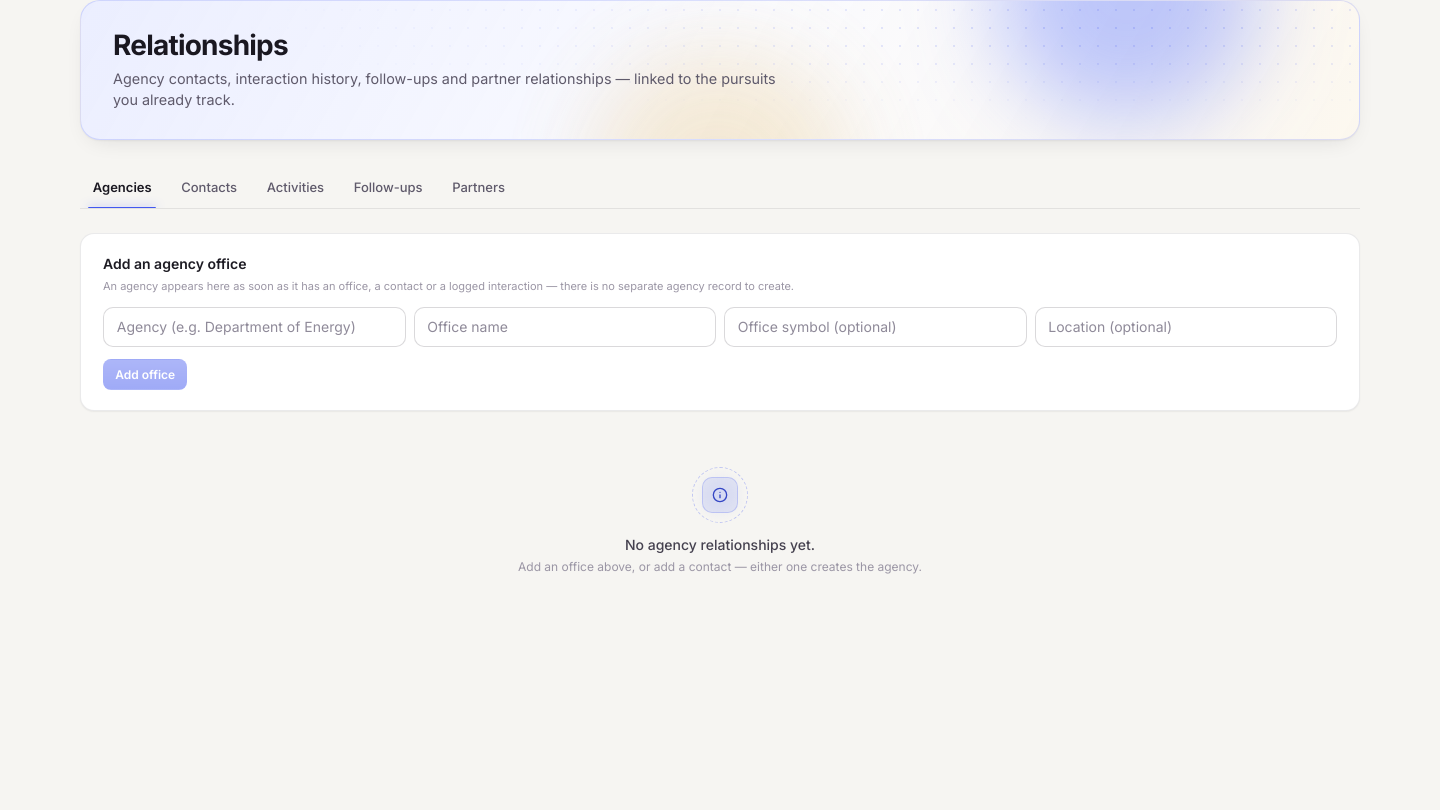
Test: CRM page — linking an interaction to an opportunity › offers a searchable opportunity picker when logging an interaction
Click the button "Contacts".
click(209, 188)  # box [168,168,250,208]
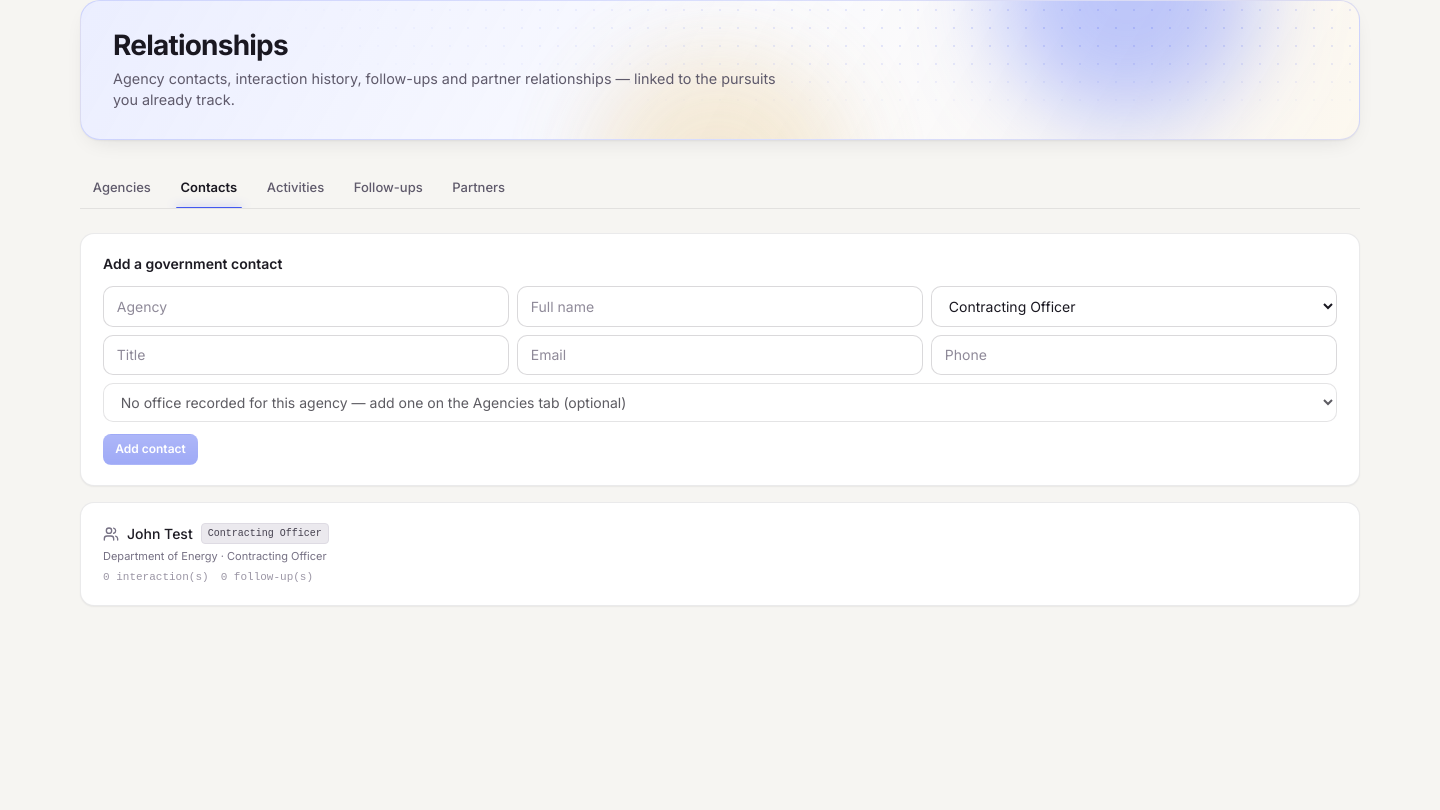
Click the text "John Test".
click(160, 534)  # box [127,524,193,544]
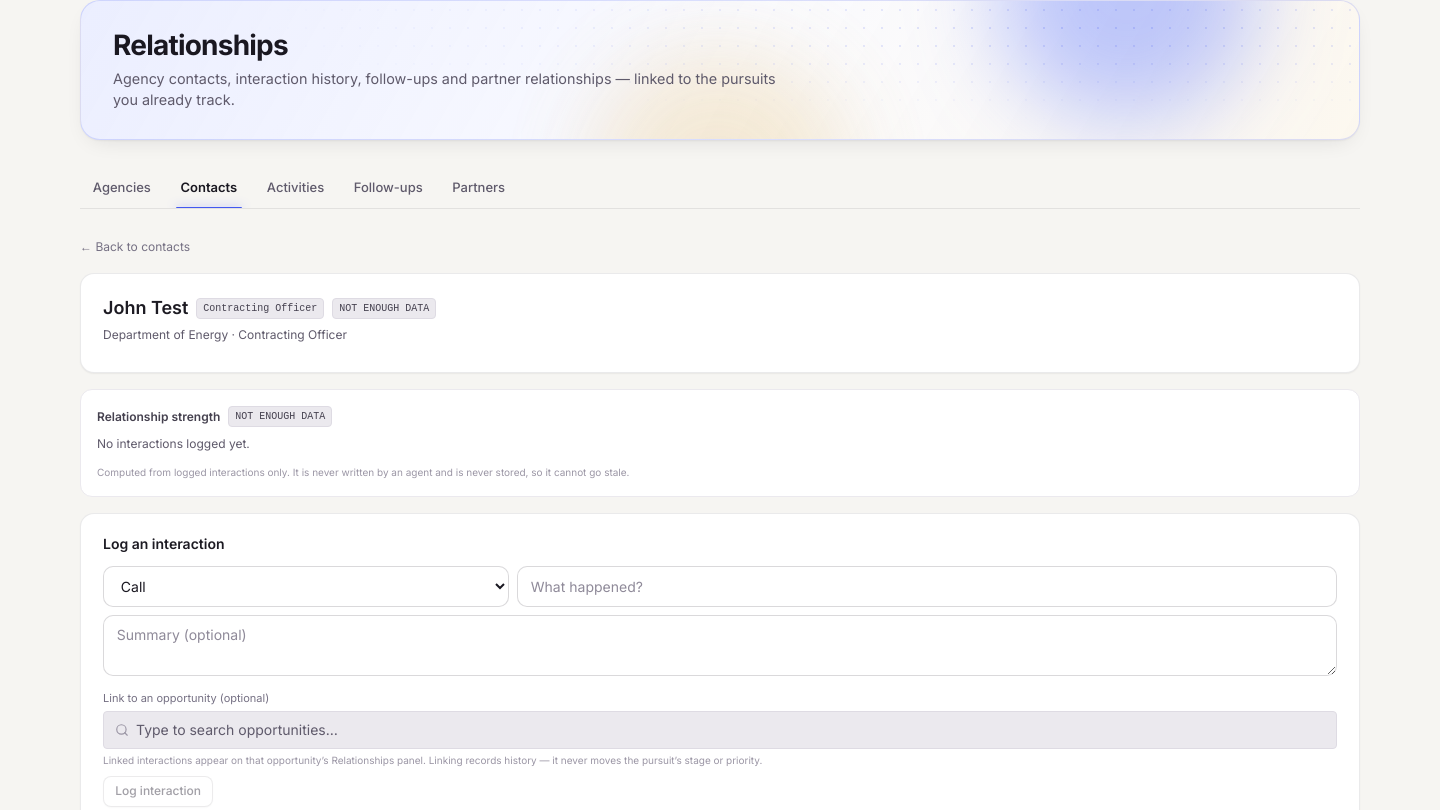
Focus the dropdown named "Link to an opportunity (optional)" at (720, 730), box [103,711,1337,749]
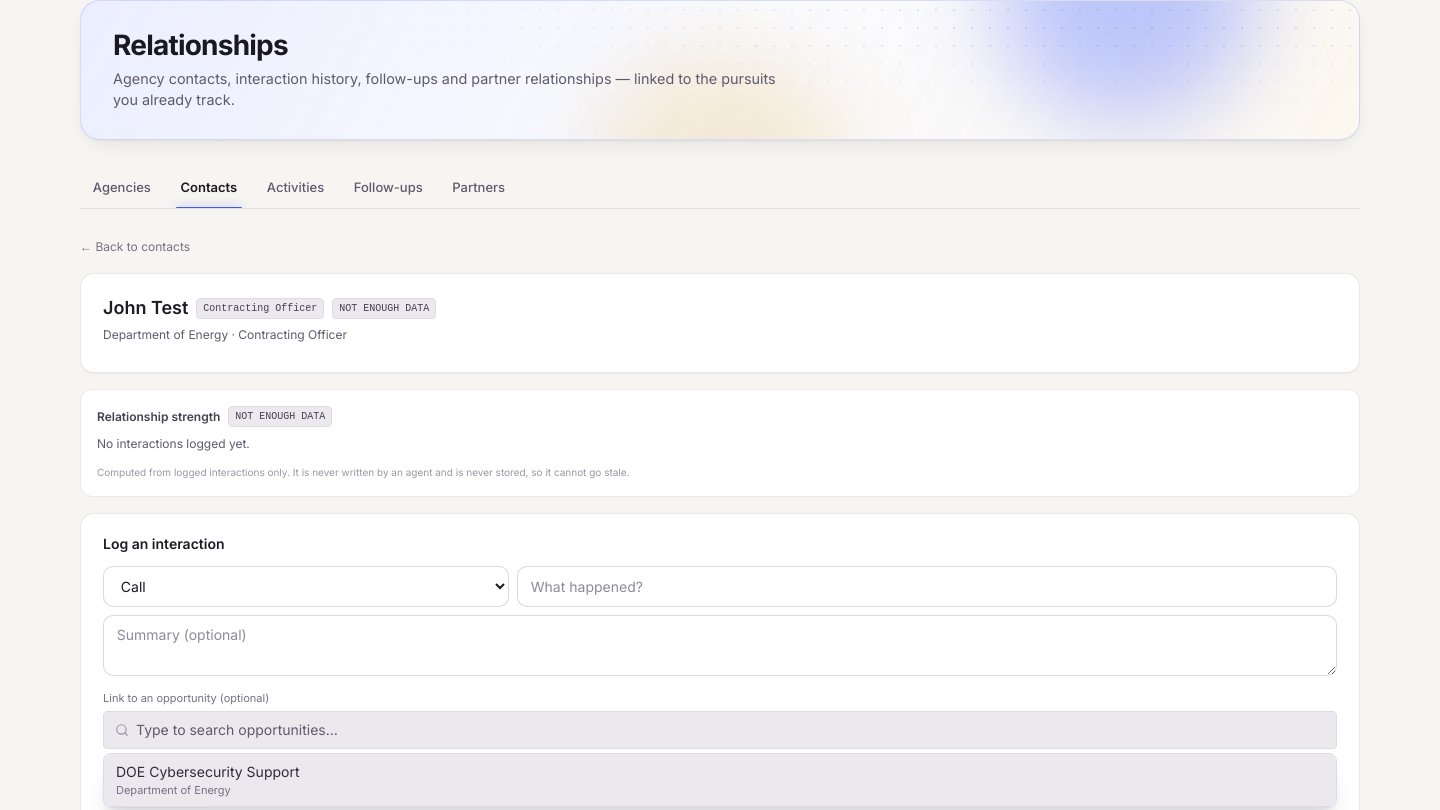
Check: the text "DOE Cybersecurity Support" is shown, box [116,763,300,780]
